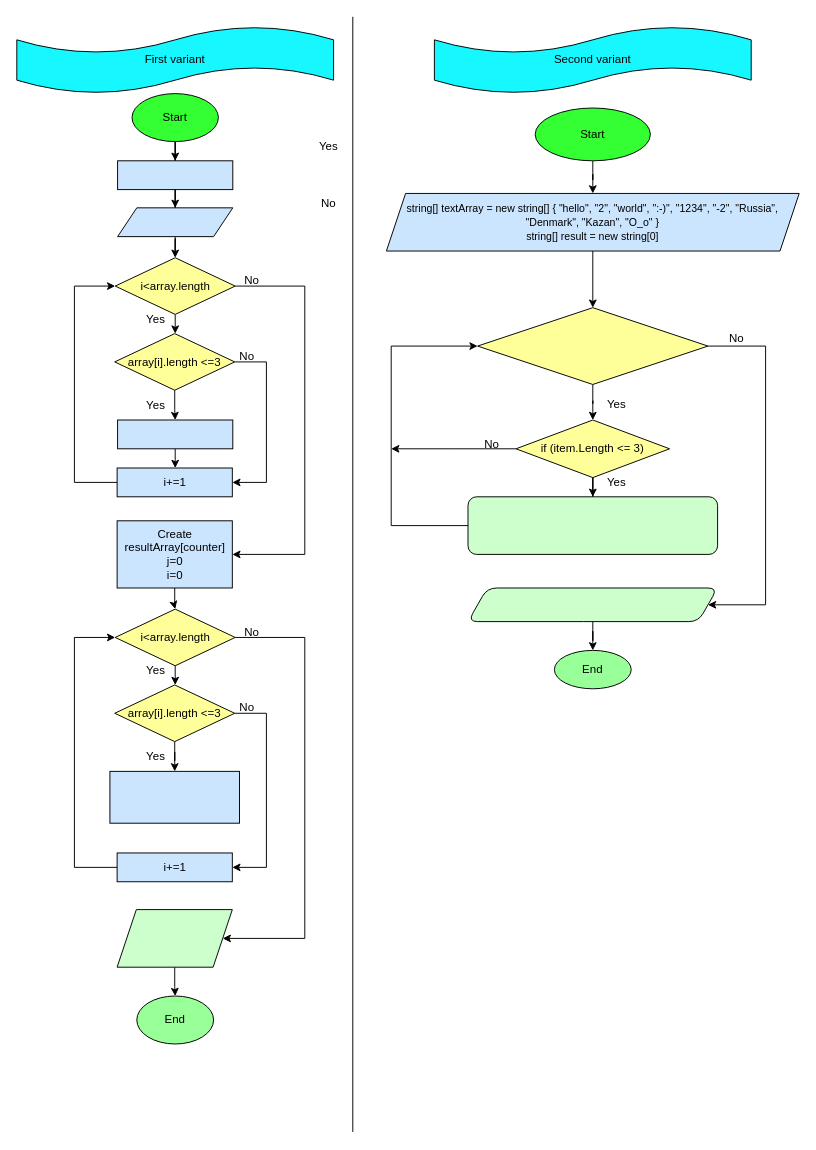
This 816x1150 diagram has some shape labels left out. The centre of each missing label's shape, as x and y in pixels:
Array.Resize(ref result, result.Length + 1) result[result.Length - 1] = item: pixel 592 525
counter+=1: pixel 175 434
foreach (var item in textArray): pixel 592 345
i=0 counter=0: pixel 175 222
resultArray: pixel 174 938
resultArray[j] = array[i] j+=1: pixel 174 796
string array: pixel 175 175
WriteLine($"[{String.Join("; ", result)}]"): pixel 592 604
